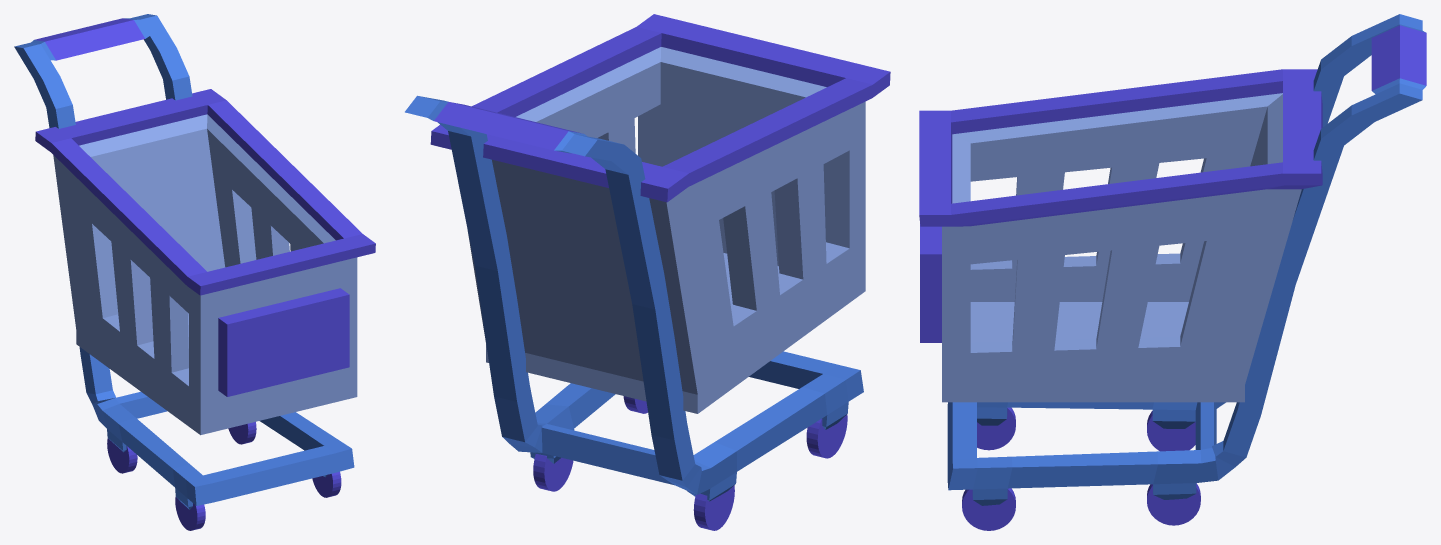
The model's file is Carrito.fbx.
3 renders of one model, left to right at view 1: azimuth 30°, elevation 25°; view 2: azimuth 150°, elevation 25°; view 3: azimuth 270°, elevation 25°, orthographic. The views are drawn at different scales.
Visible parts, largest first — view 1: Cylinder; view 2: Cylinder; view 3: Cylinder.
Part boxes in pixels (box(x1,y1,x2,y2)): Cylinder: box(14, 14, 375, 530); Cylinder: box(405, 14, 890, 530); Cylinder: box(919, 14, 1426, 530).
Bounding box in the file's own units: 155 × 303 × 319.
